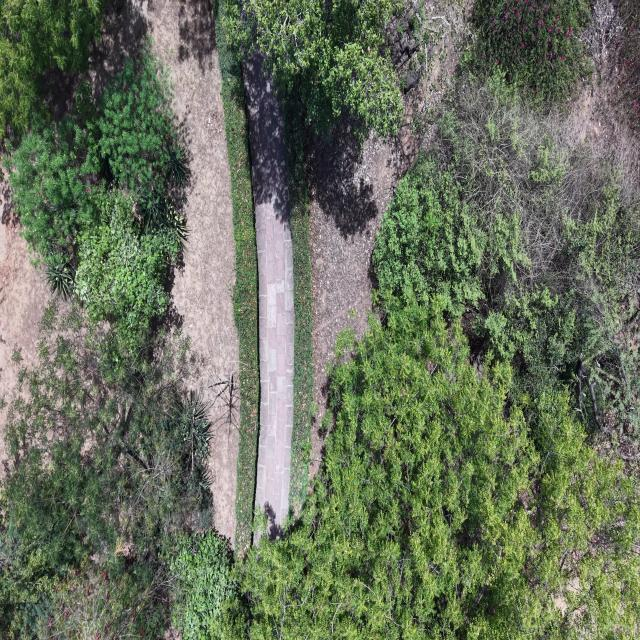DRY_AREA: (305, 0, 472, 477), (90, 0, 237, 541), (306, 34, 459, 477), (92, 0, 237, 396), (143, 0, 238, 543), (306, 123, 428, 476), (306, 123, 416, 476), (243, 53, 294, 544), (0, 173, 51, 477), (0, 180, 50, 477)
PATHWAYS: (233, 51, 295, 543)
VEGETATION_TREE: (0, 0, 639, 639), (202, 74, 639, 639), (225, 299, 639, 639), (0, 44, 230, 637), (0, 43, 212, 638), (373, 75, 639, 454), (0, 303, 211, 637), (8, 45, 189, 351), (224, 0, 443, 135), (224, 0, 402, 135), (216, 7, 259, 551), (217, 4, 258, 547), (217, 3, 258, 544), (373, 157, 500, 315), (75, 190, 178, 349), (96, 44, 189, 207), (0, 0, 102, 137), (9, 118, 99, 263), (470, 0, 592, 103), (283, 93, 313, 511), (18, 563, 166, 638), (581, 0, 639, 131), (170, 531, 233, 639), (581, 0, 633, 77), (616, 0, 639, 130), (47, 254, 73, 299)
